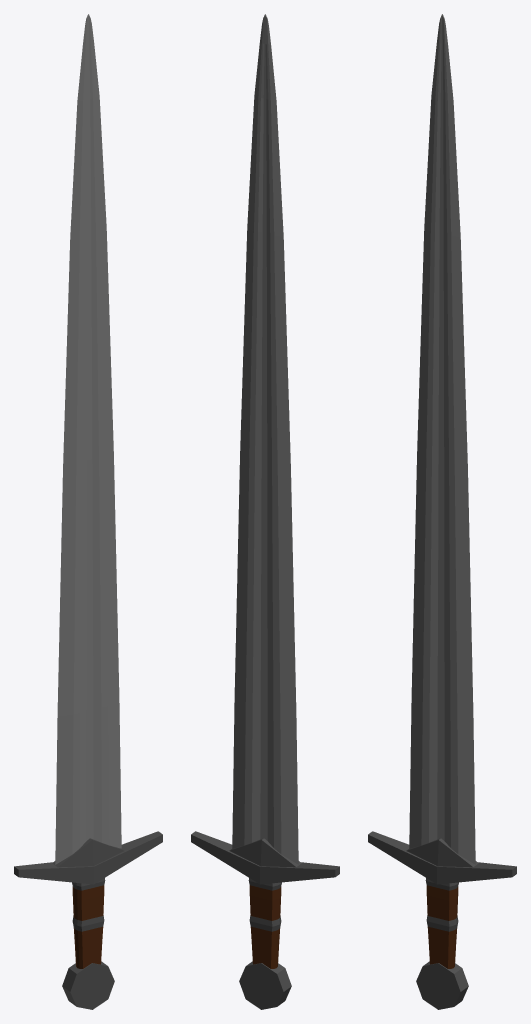
The model's file is SwordHeavy.fbx.
3 renders of one model, left to right at view 1: azimuth 30°, elevation 25°; view 2: azimuth 150°, elevation 25°; view 3: azimuth 330°, elevation 25°, orthographic.
Parts seen in each view (by area): view 1: Grip03; view 2: Grip03; view 3: Grip03.
Boxes of the visible parts, x1,y1,x2,y2 form: Grip03: [14, 14, 162, 1009]; Grip03: [191, 14, 339, 1009]; Grip03: [368, 14, 516, 1009].
Bounding box in the file's own units: 80 × 526 × 10.29.
